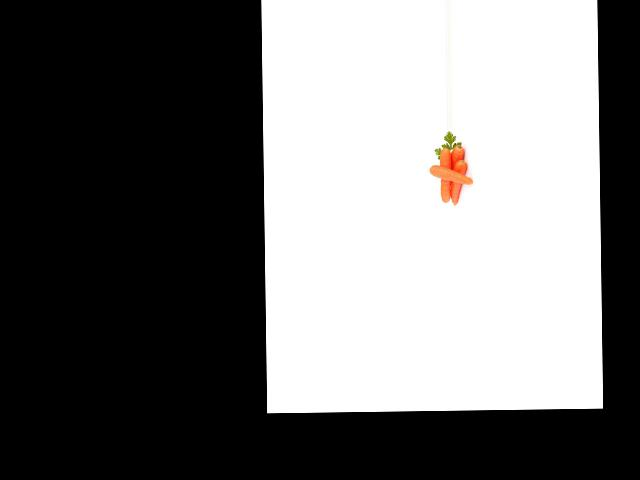carrot: (447, 145, 466, 197)
